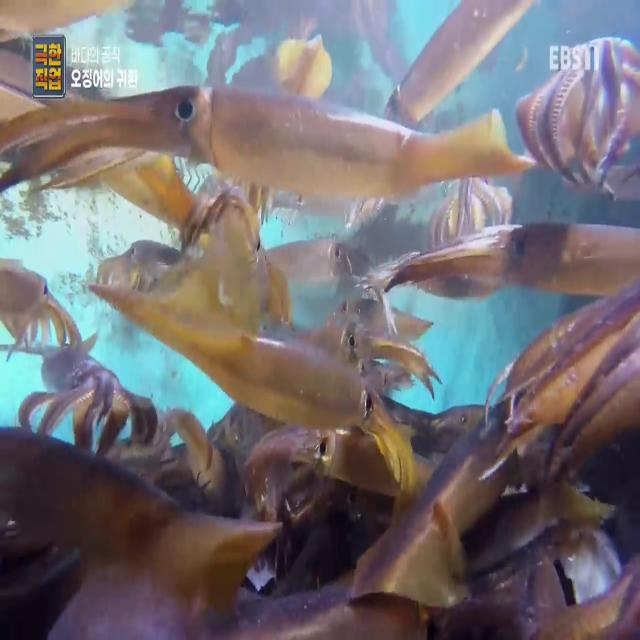squid: (86, 276, 417, 494), (0, 82, 540, 212), (0, 428, 285, 634), (346, 396, 522, 612), (384, 220, 640, 300), (382, 0, 537, 126), (244, 416, 434, 512), (18, 329, 158, 459), (462, 468, 612, 583), (0, 258, 81, 354)
